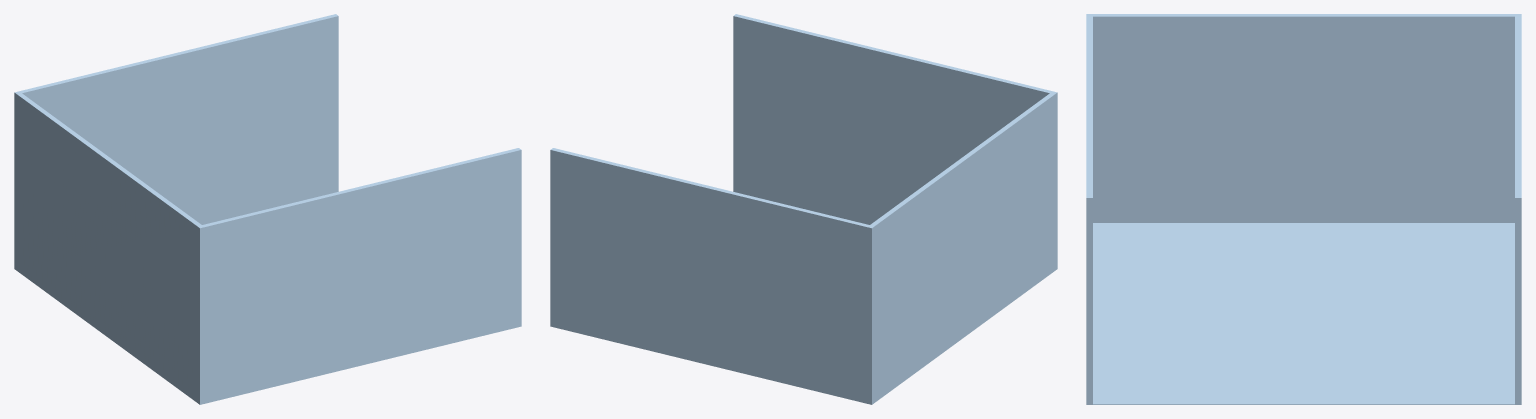
Rendered from Room2.glb.
3 renders of one model, left to right at view 1: azimuth 30°, elevation 25°; view 2: azimuth 150°, elevation 25°; view 3: azimuth 270°, elevation 25°, orthographic. The views are drawn at different scales.
Visible parts, largest first — view 1: Cube; view 2: Cube; view 3: Cube.
Boxes of the visible parts, box(x1,y1,x2,y2) form: Cube: box(14, 14, 521, 404); Cube: box(550, 14, 1057, 404); Cube: box(1086, 14, 1521, 404).
Size of the model in its own units: 100 by 52.5 by 100.
